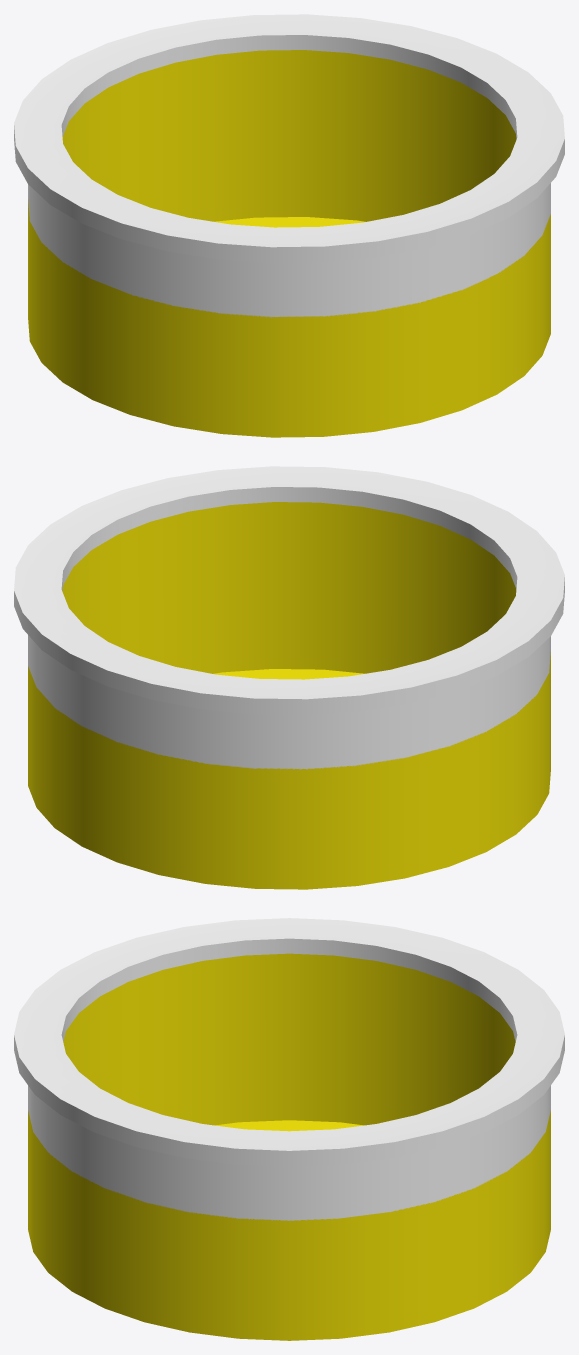
File: Empaque_Gelatina_Texturizado.fbx
3 views of the same model, one above another, from view 1: azimuth 30°, elevation 25°; view 2: azimuth 150°, elevation 25°; view 3: azimuth 270°, elevation 25° (orthographic).
Visible parts, largest first — view 1: Cylinder.001; view 2: Cylinder.001; view 3: Cylinder.001.
Boxes of the visible parts, <box> form: Cylinder.001: <box>14,14,564,437</box>; Cylinder.001: <box>14,466,564,889</box>; Cylinder.001: <box>14,918,564,1340</box>.
Bounding box in the file's own units: 5627 × 2208 × 5627.
1 material, 1 textured.
